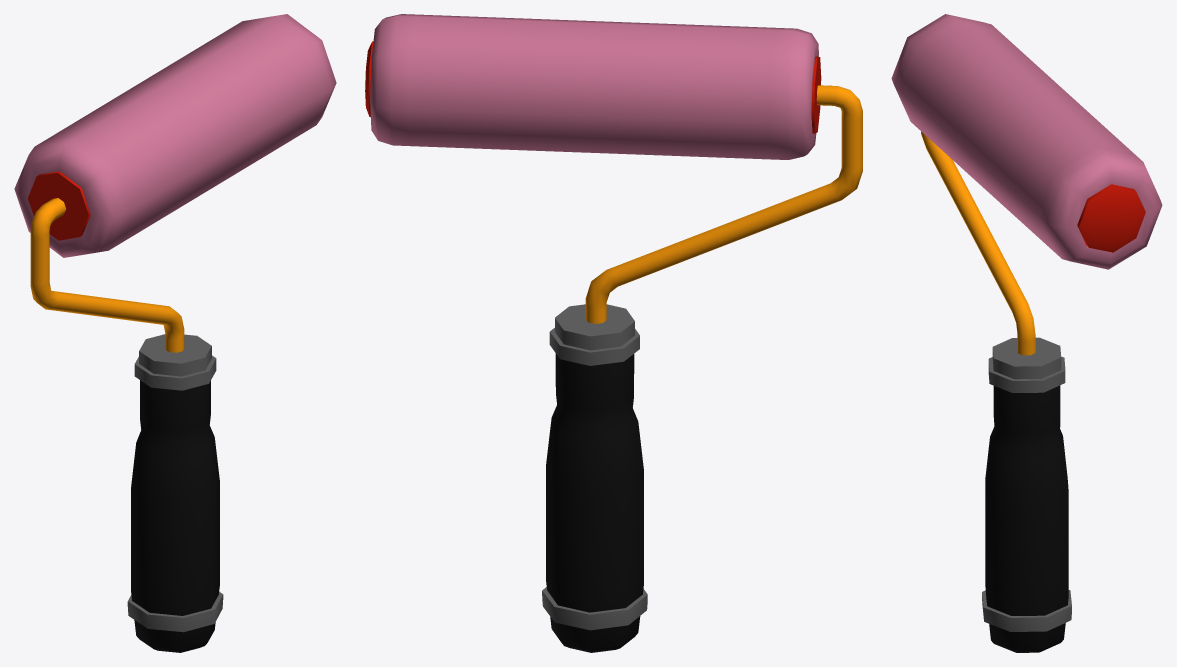
The picture shows the model from 3 angles, left to right: view 1: azimuth 30°, elevation 25°; view 2: azimuth 150°, elevation 25°; view 3: azimuth 270°, elevation 25°; orthographic projection. The views are drawn at different scales.
Visible parts, largest first — view 1: roller, grip, center_bar, handle.003, edge_cap, ring; view 2: roller, grip, center_bar, handle.003, ring; view 3: roller, grip, center_bar, handle.003, cap.001, ring.
Part boxes in pixels (<box>): roller: <box>14,14,336,257</box>; grip: <box>131,380,219,652</box>; center_bar: <box>30,198,184,352</box>; handle.003: <box>134,334,216,390</box>; edge_cap: <box>27,171,90,240</box>; ring: <box>127,592,223,632</box>; roller: <box>370,14,818,159</box>; grip: <box>546,353,643,652</box>; center_bar: <box>585,85,862,323</box>; handle.003: <box>549,304,639,365</box>; ring: <box>542,587,647,630</box>; roller: <box>891,14,1162,269</box>; grip: <box>985,385,1068,652</box>; center_bar: <box>921,131,1035,355</box>; handle.003: <box>988,337,1065,392</box>; cap.001: <box>1077,184,1145,252</box>; ring: <box>982,590,1071,631</box>.
Bounding box in the file's own units: 34.25 × 21.95 × 49.91.
